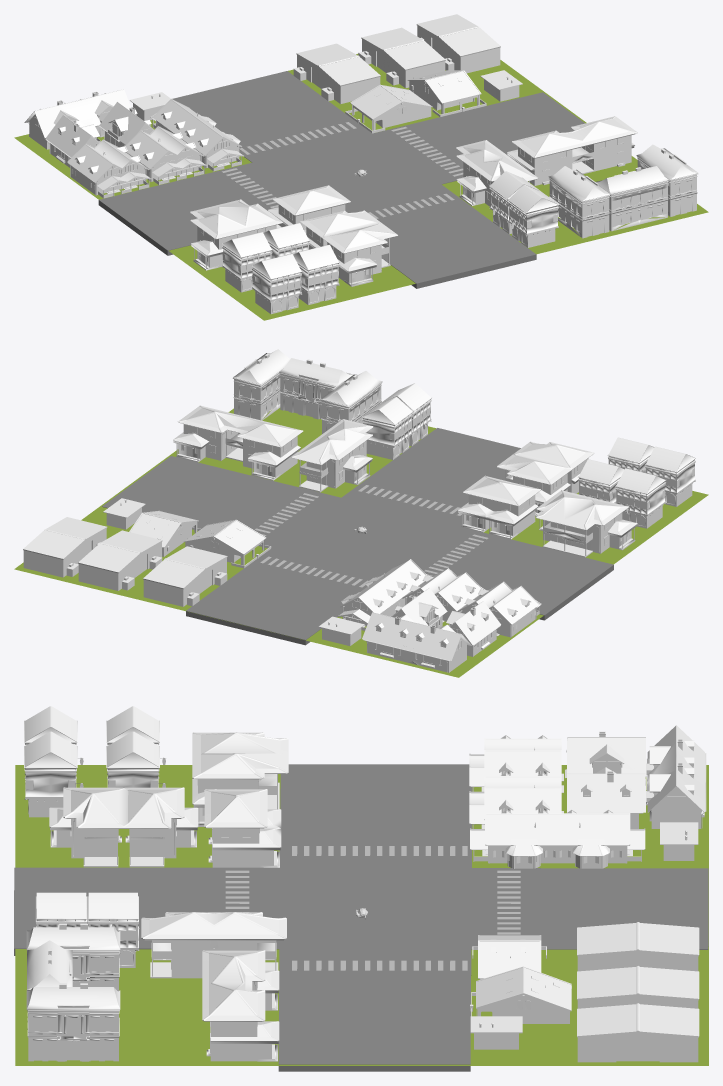
The picture shows the model from 3 angles, top to bottom: view 1: azimuth 30°, elevation 25°; view 2: azimuth 150°, elevation 25°; view 3: azimuth 270°, elevation 25°; orthographic projection. The views are drawn at different scales.
Parts seen in each view (by area): view 1: Street environment_V01; view 2: Street environment_V01; view 3: Street environment_V01.
Boxes of the visible parts, x1=… form: Street environment_V01: x1=14, y1=14, x2=708, y2=320; Street environment_V01: x1=14, y1=349, x2=708, y2=677; Street environment_V01: x1=14, y1=706, x2=708, y2=1071.
Size of the model in its own units: 96.86 by 11.25 by 94.37.
